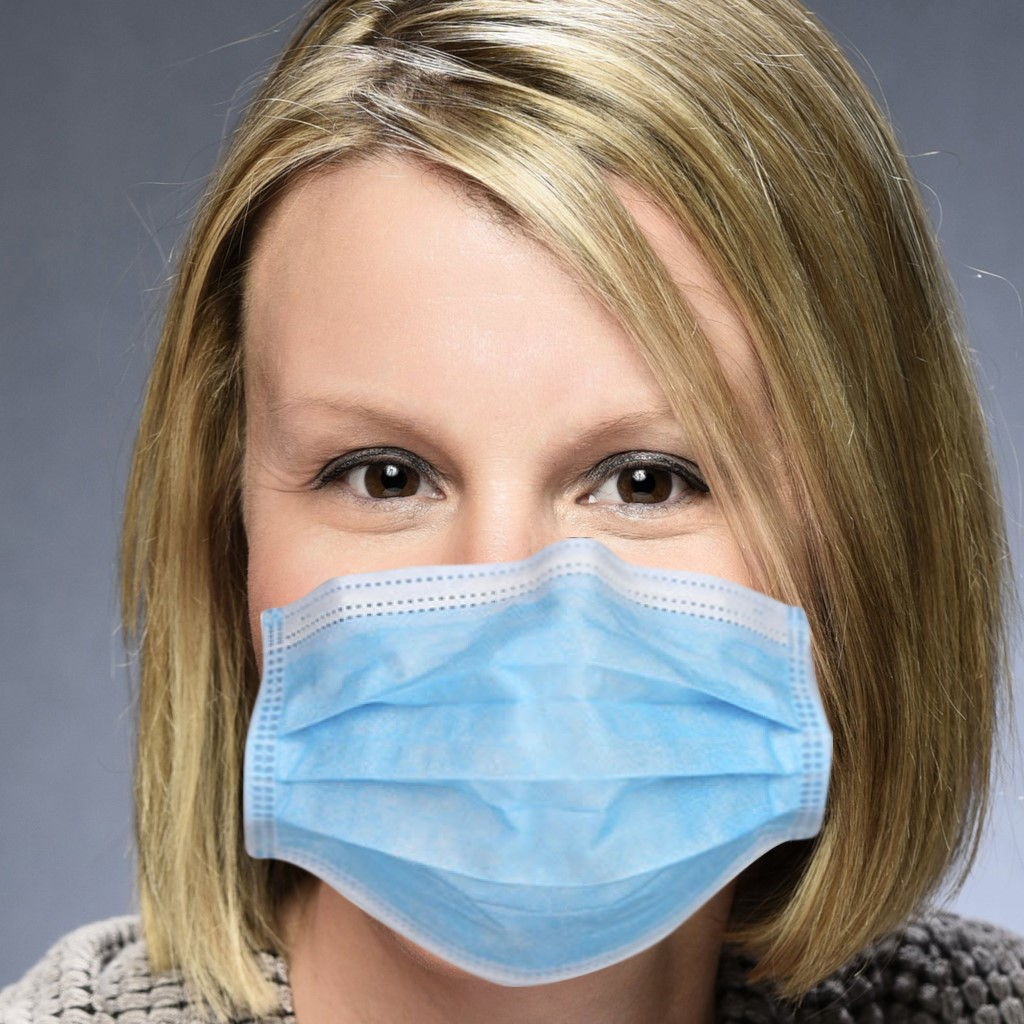con_mascara: (221, 142, 837, 969)
